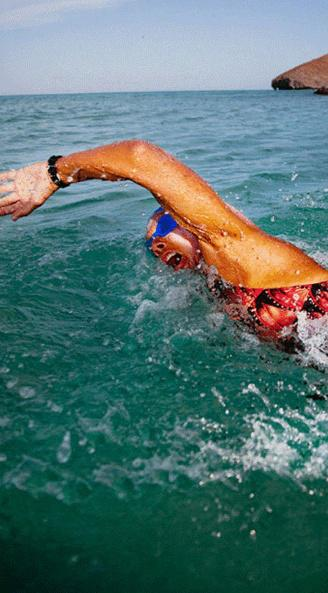swimmer: (0, 126, 328, 400)
